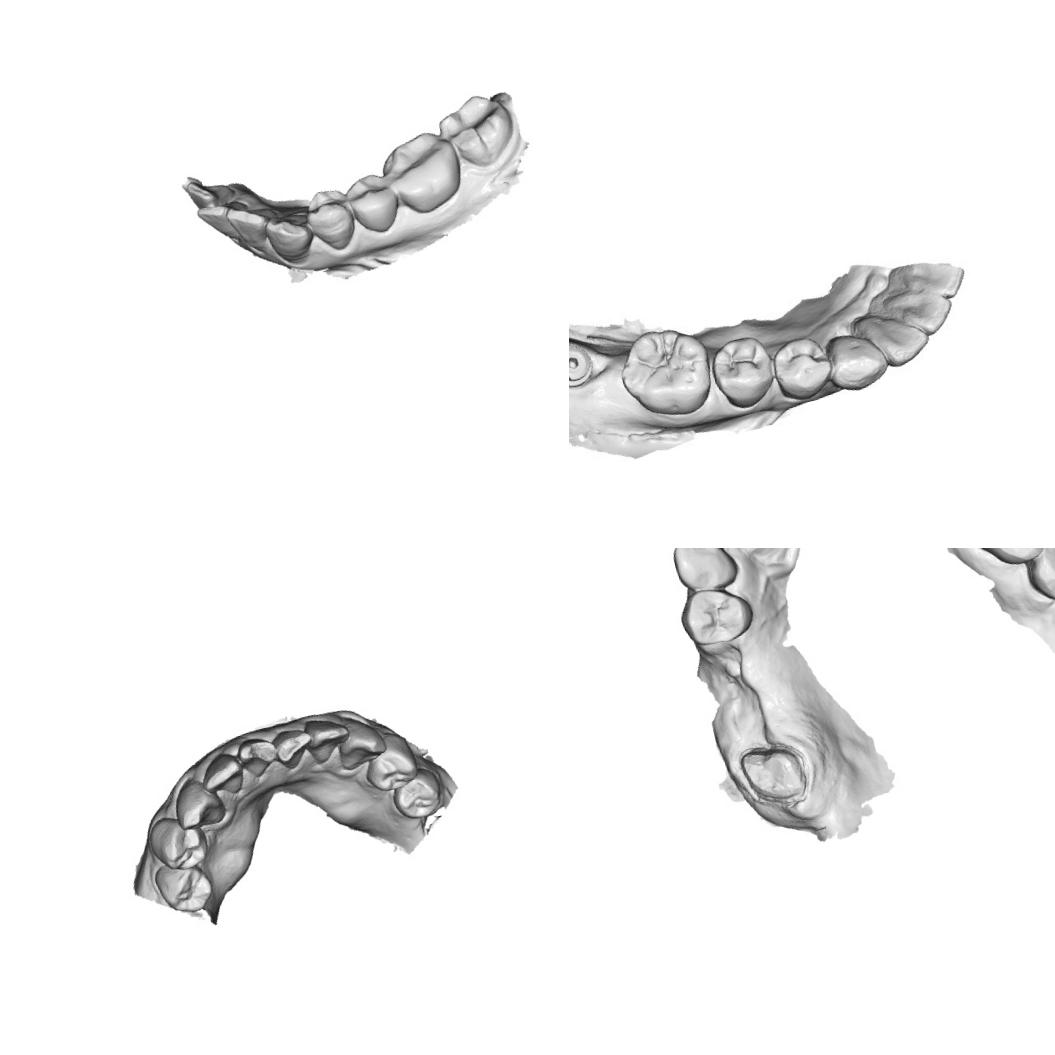canine: (819, 323, 893, 398), (167, 769, 230, 834), (330, 708, 392, 774), (666, 548, 743, 597), (260, 206, 318, 269)
crown: (732, 734, 813, 812)
implant: (569, 335, 602, 397)
incisor: (881, 274, 960, 345), (857, 301, 931, 372), (894, 252, 968, 310), (223, 197, 275, 259), (302, 710, 354, 768), (194, 748, 249, 802), (232, 731, 284, 783), (194, 198, 244, 252), (269, 722, 318, 774), (183, 172, 241, 215)
molar: (618, 319, 719, 425), (374, 126, 469, 222), (432, 87, 522, 175), (1014, 548, 1055, 610), (961, 548, 1055, 575)
premolar: (672, 580, 760, 652), (711, 332, 778, 412), (142, 806, 215, 878), (355, 727, 425, 798), (770, 333, 833, 407), (150, 854, 219, 921), (342, 168, 406, 239), (300, 184, 360, 256), (386, 763, 449, 826)
